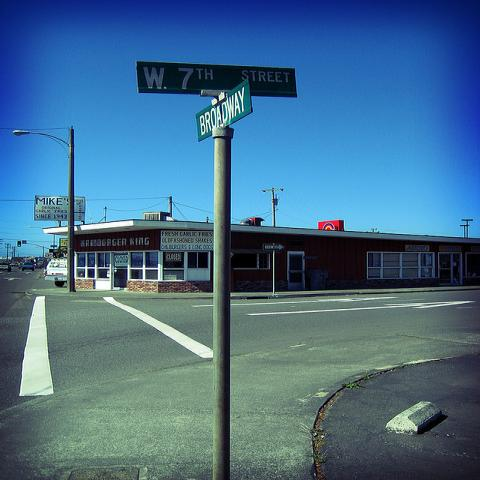car: (0, 262, 11, 272), (22, 263, 34, 271), (9, 262, 18, 266), (33, 264, 42, 268), (18, 262, 23, 268)
truck: (44, 259, 68, 287)
